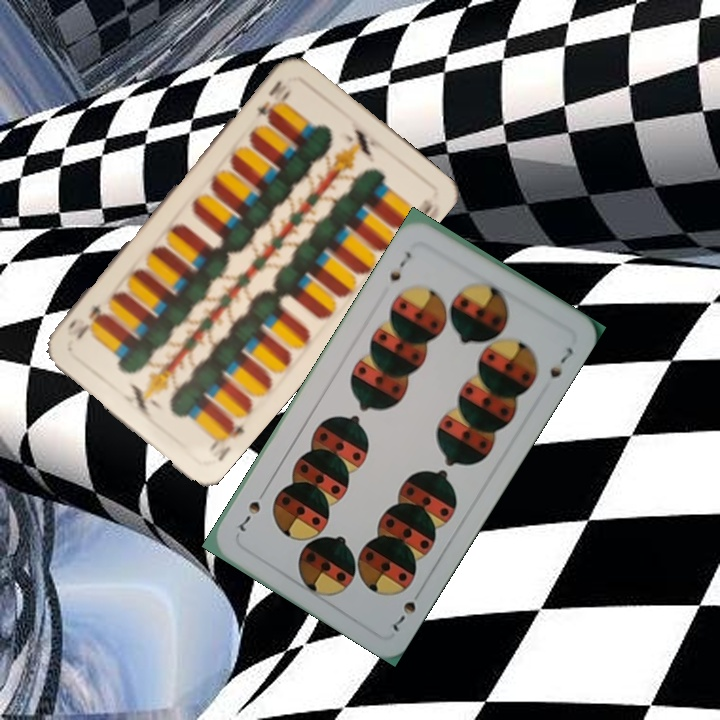E10: (205, 415, 247, 464), (250, 76, 285, 124)
S7: (388, 597, 419, 635), (385, 247, 415, 284)
